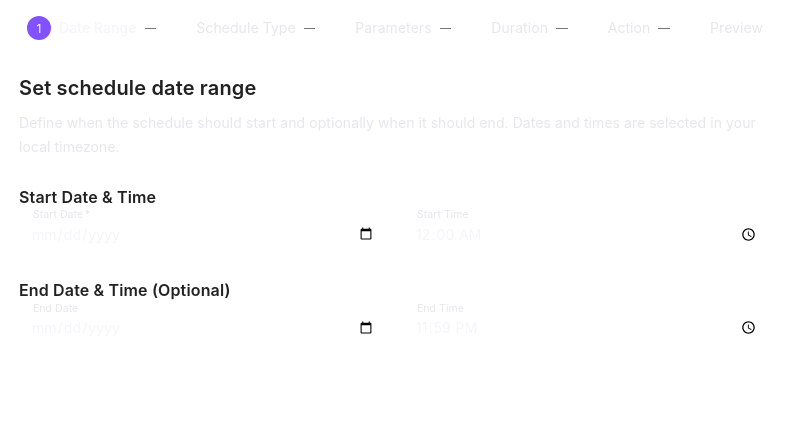
Scenario: ScheduleBuilder › Date Range Step › requires start date to proceed
In the date field labelled "Start Date *": {"x": 203, "y": 234} [19,216,387,252], type "2024-01-01"
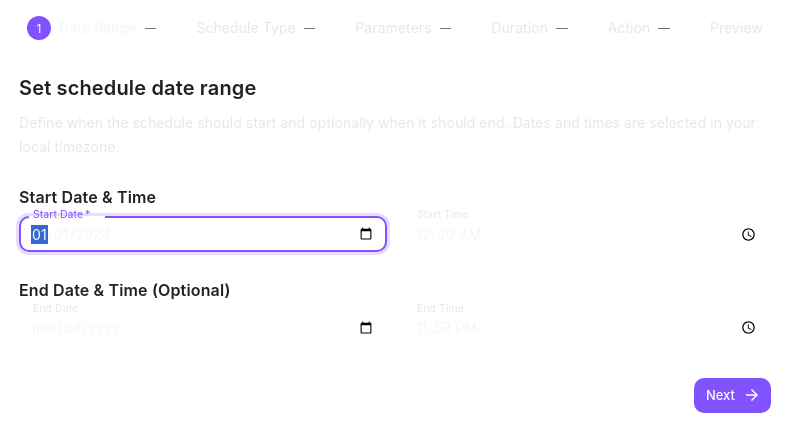
Expected: the button "Next" is enabled, [694,378,771,413]
